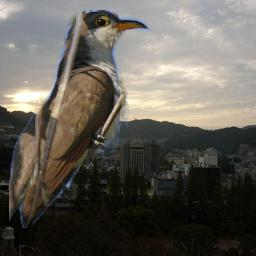Cuckoo: (9, 10, 182, 228)
